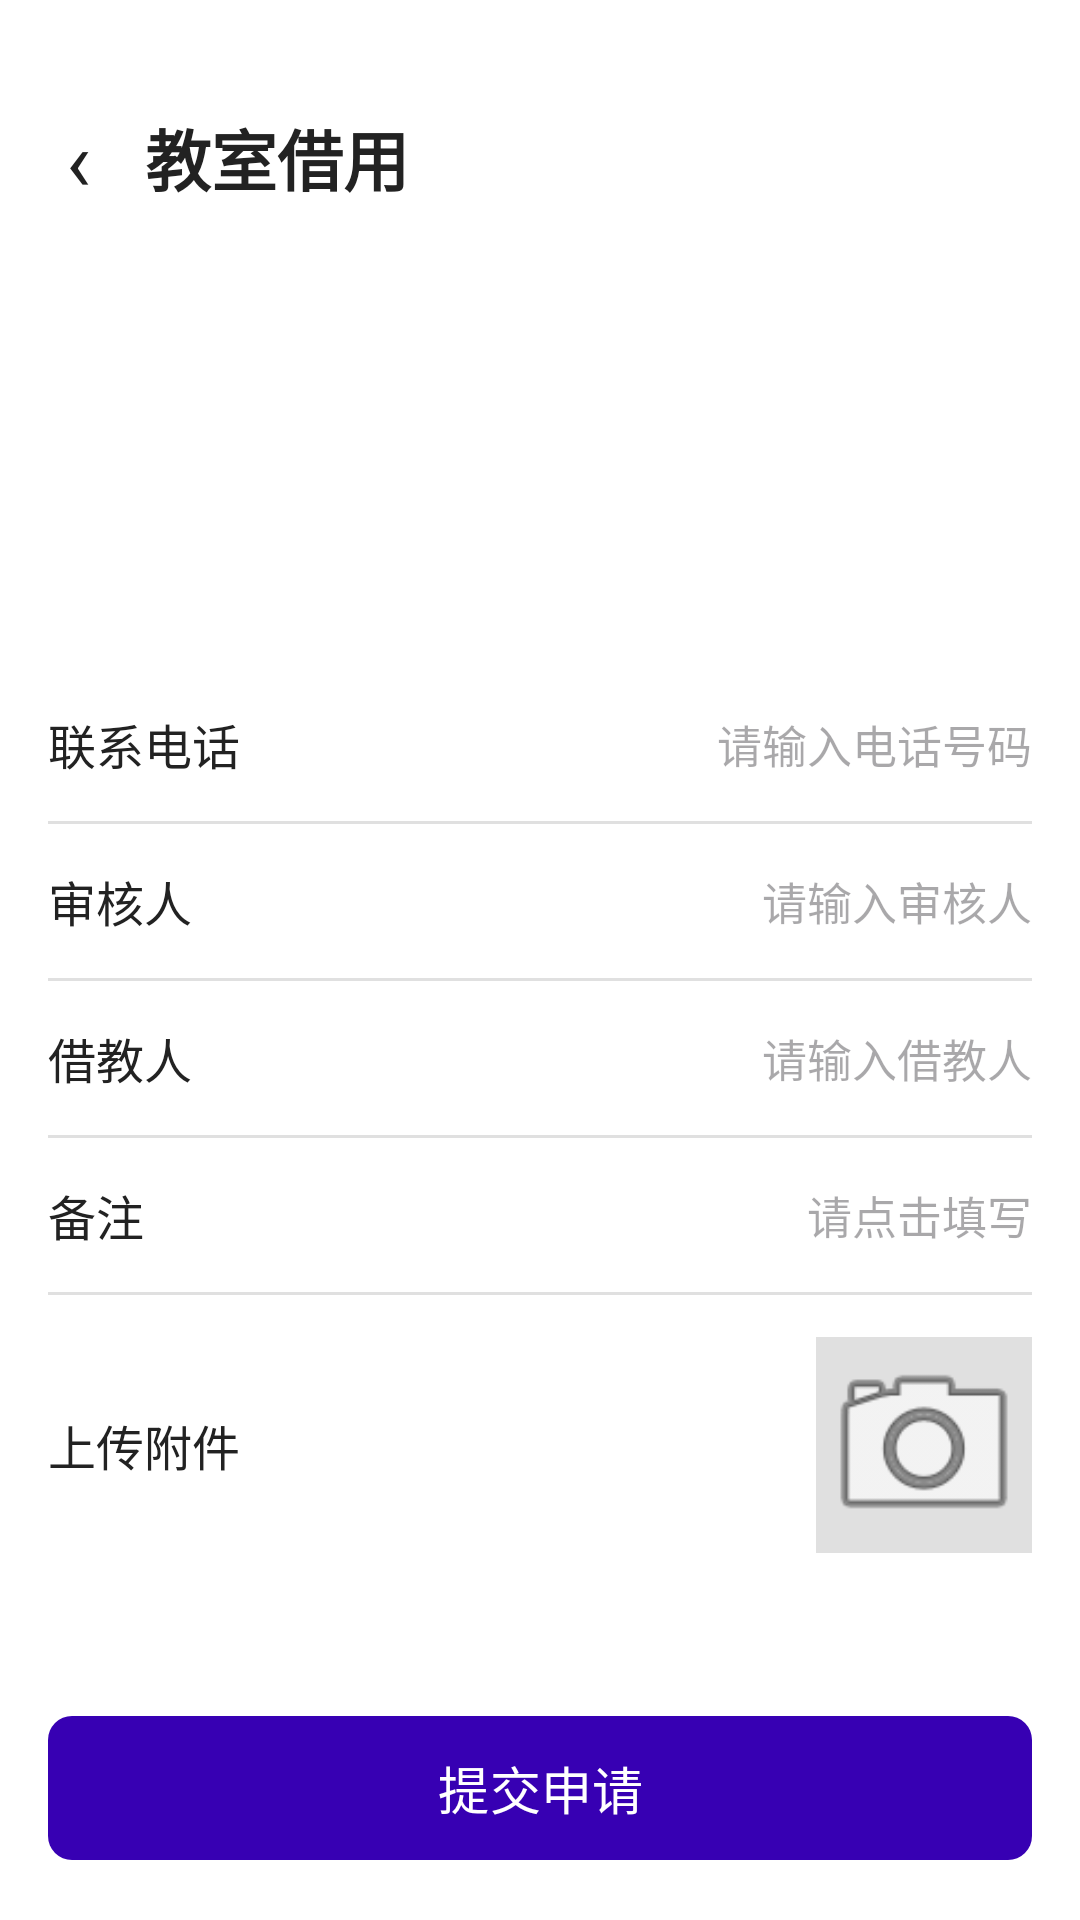

Screen size 1080*1920. Icon name, then its box in pixels as {"x1": x1, "y1": y1, "x2": x2, "y2": y2}:
camera: {"x1": 816, "y1": 1337, "x2": 1032, "y2": 1553}
